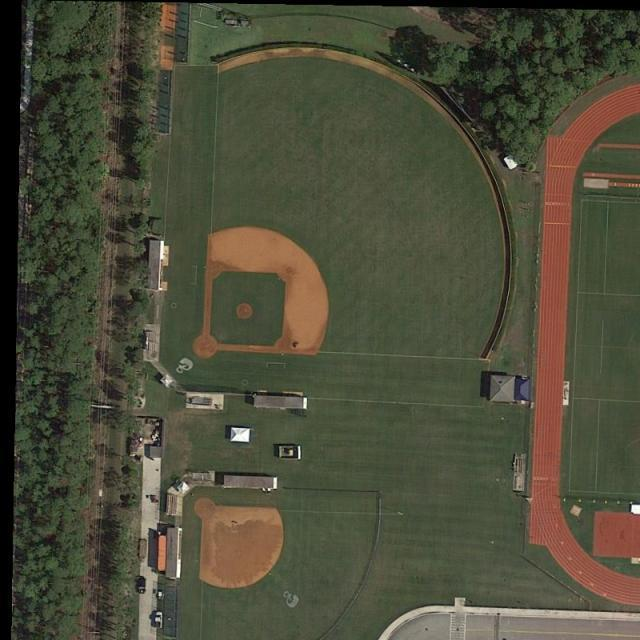vehicle: (154, 611, 164, 628), (137, 578, 146, 594)
